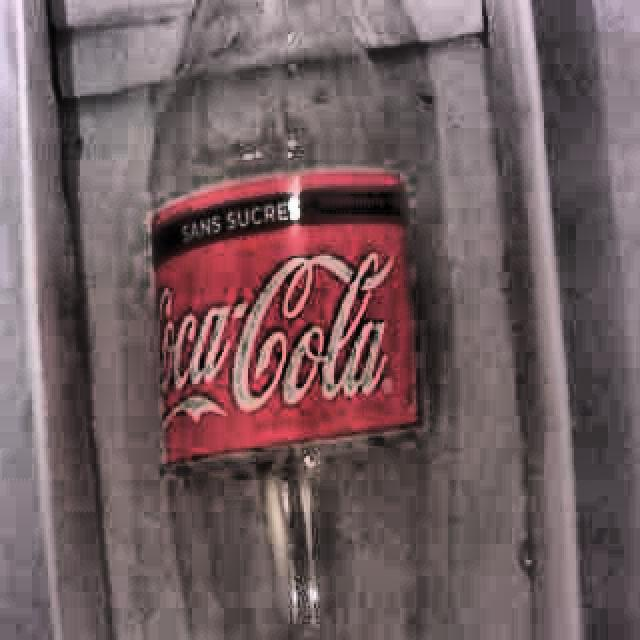plastic: (142, 0, 454, 640)
